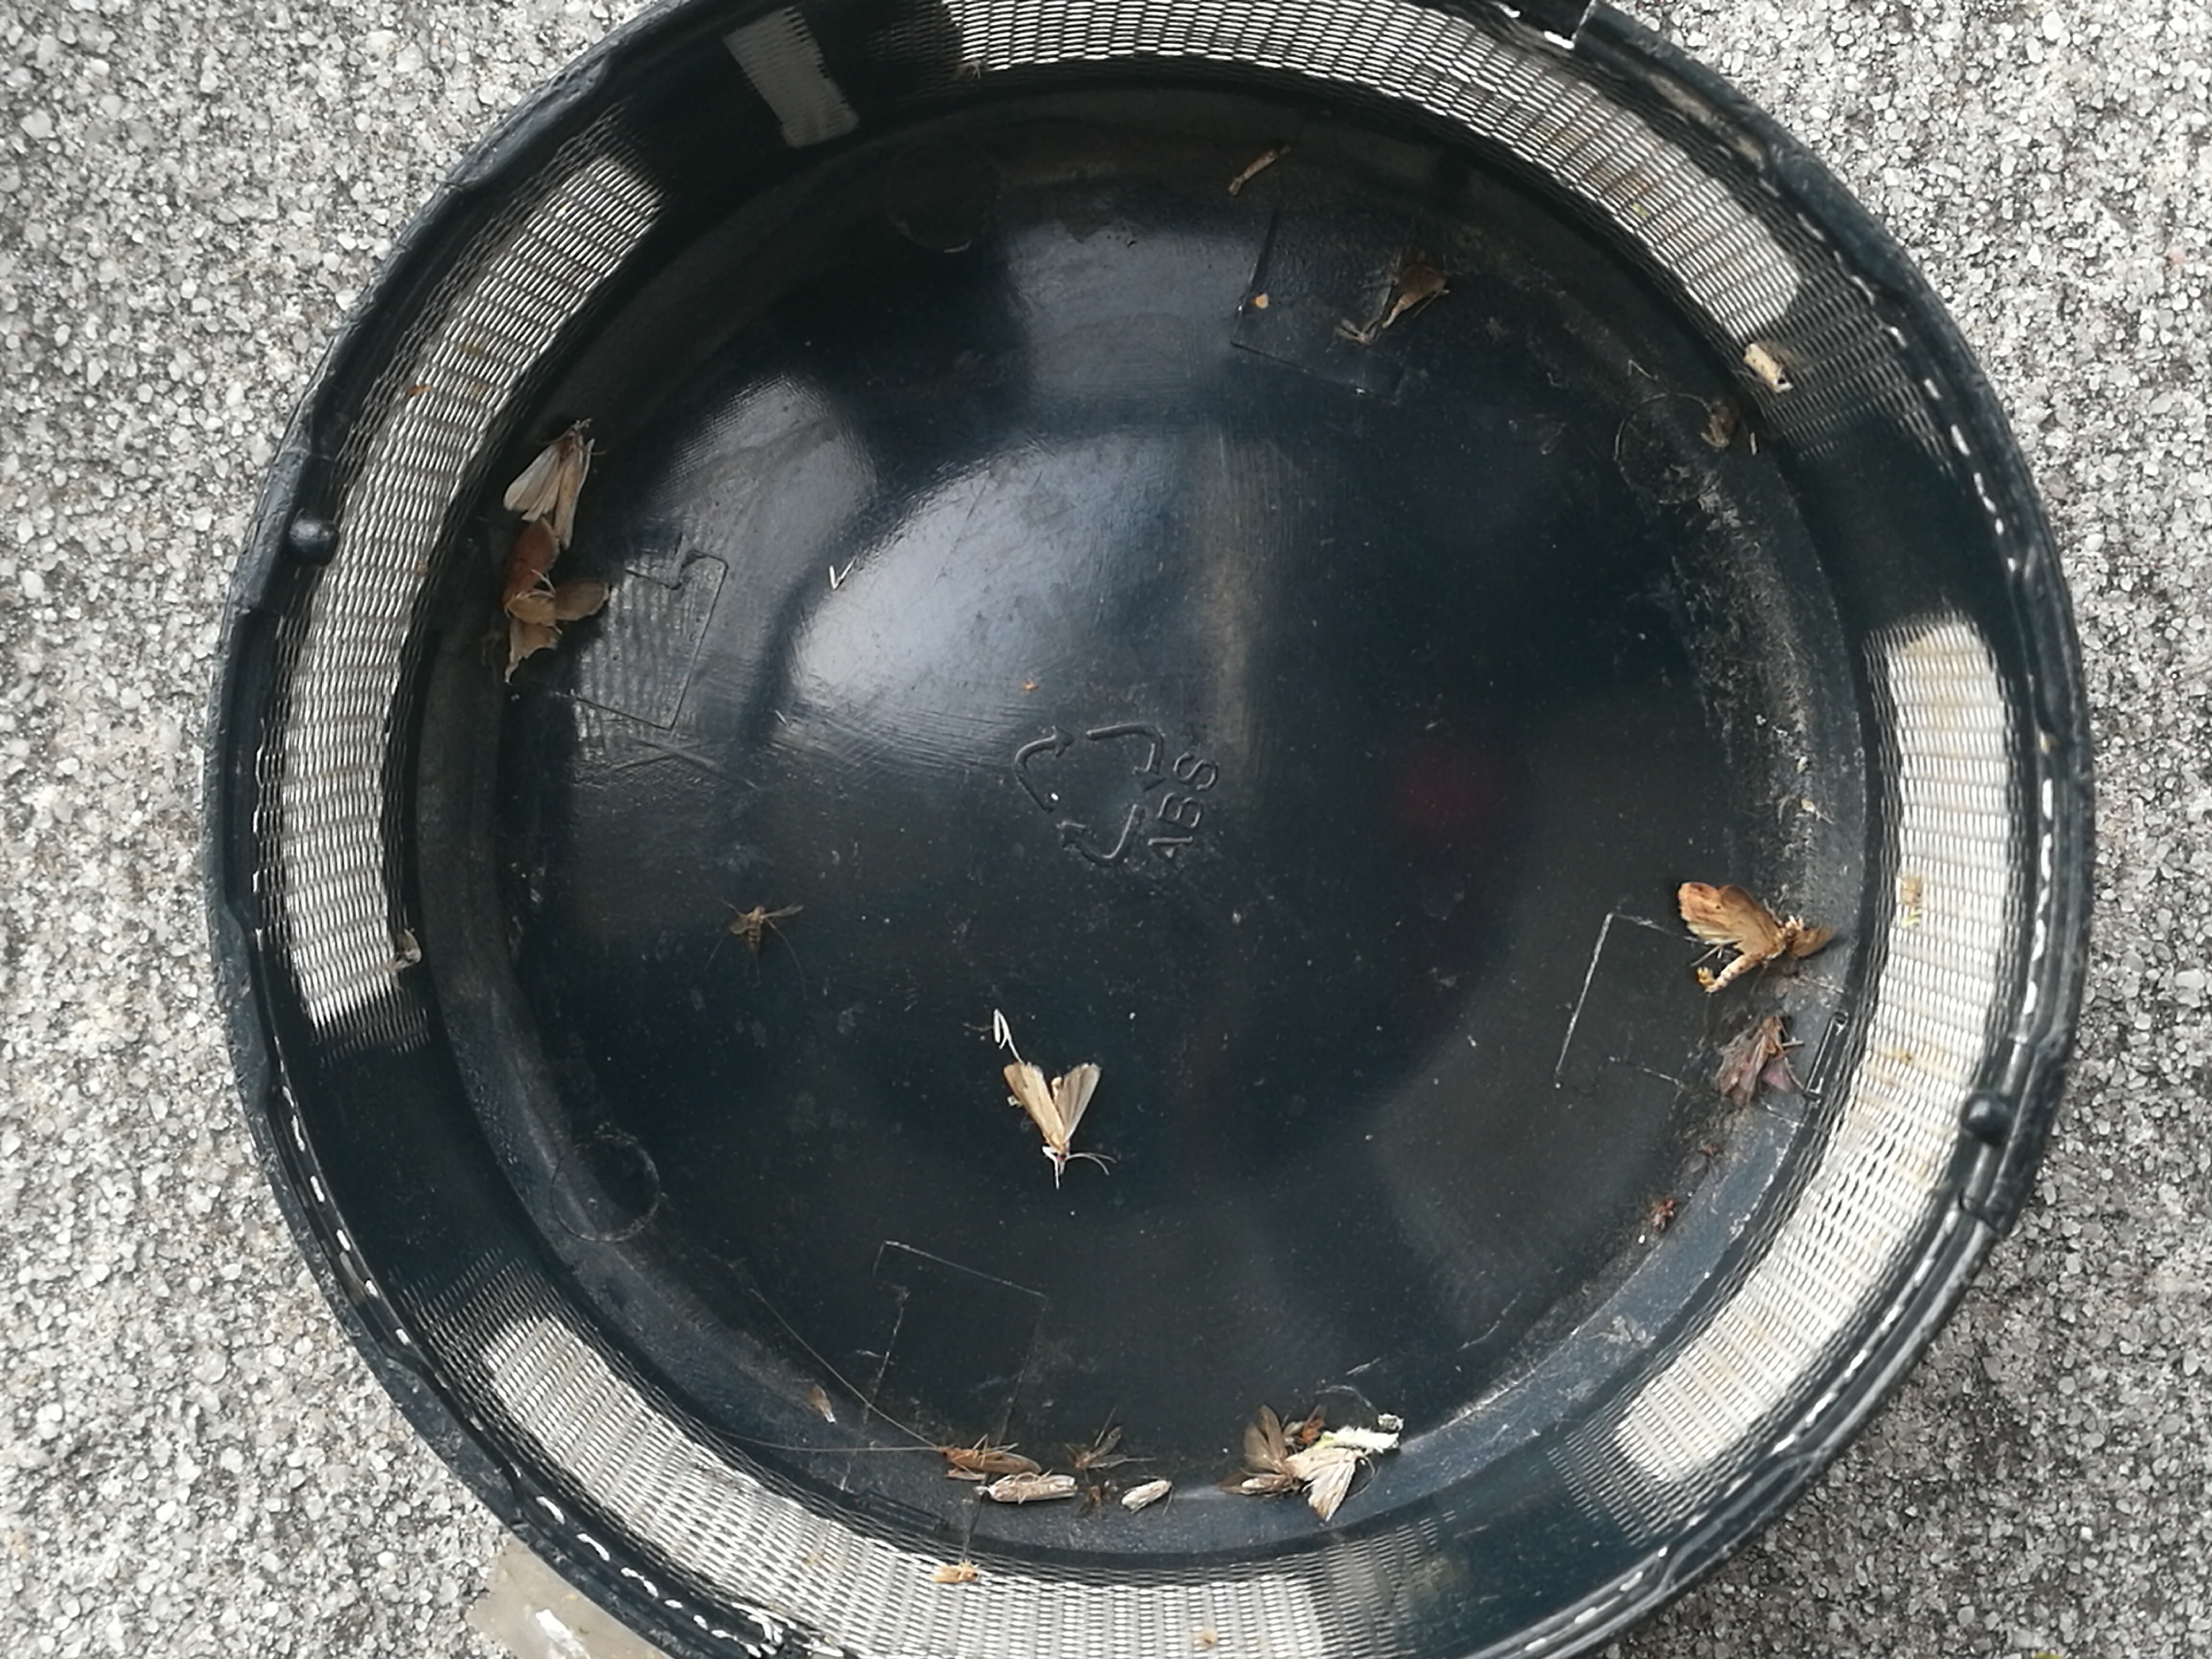mosquito: (941, 1445, 1040, 1474), (977, 1474, 1075, 1502), (1122, 1476, 1172, 1514), (1219, 1473, 1294, 1495)
moth: (500, 518, 608, 683), (1679, 882, 1801, 993), (505, 423, 596, 547), (1005, 1061, 1099, 1168), (1714, 1014, 1791, 1105), (1287, 1446, 1367, 1520)
